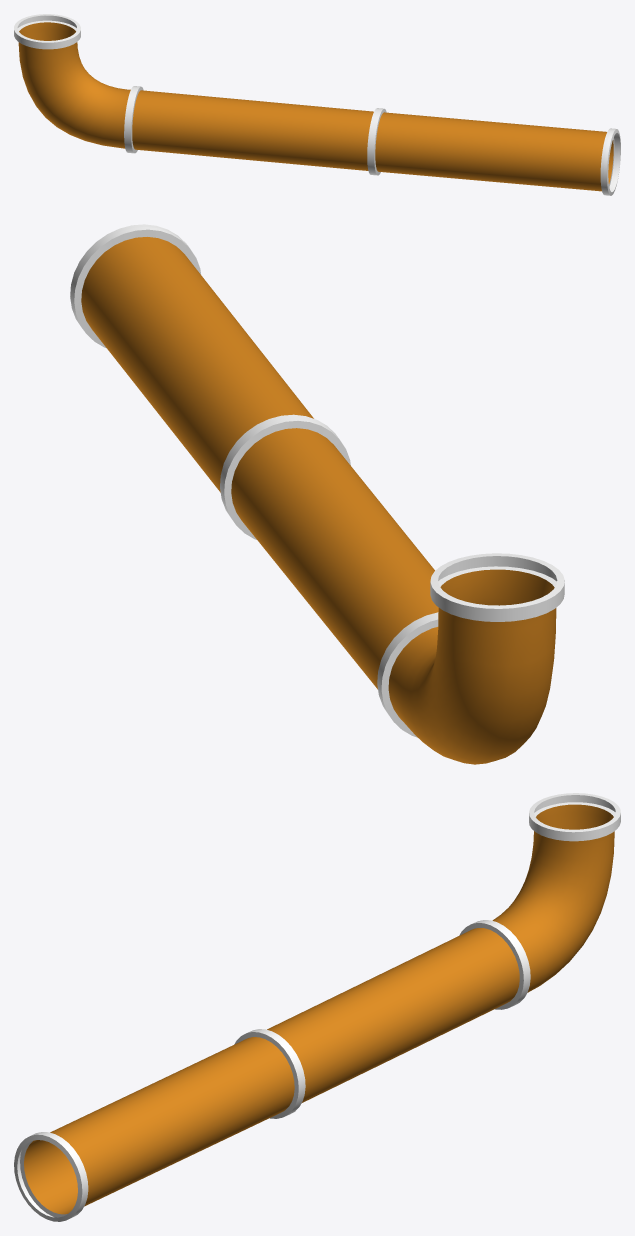
Rendered from SM_H_Building_Tide_Waterway_11a_ATLAS.fbx.
3 views of the same model, one above another, from view 1: azimuth 30°, elevation 25°; view 2: azimuth 150°, elevation 25°; view 3: azimuth 270°, elevation 25° (orthographic). The views are drawn at different scales.
Visible parts, largest first — view 1: SM_H_Building_Tide_Waterway_11a_ATLAS; view 2: SM_H_Building_Tide_Waterway_11a_ATLAS; view 3: SM_H_Building_Tide_Waterway_11a_ATLAS.
Boxes of the visible parts, x1,y1,x2,y2 form: SM_H_Building_Tide_Waterway_11a_ATLAS: (14, 14, 620, 195); SM_H_Building_Tide_Waterway_11a_ATLAS: (70, 224, 564, 764); SM_H_Building_Tide_Waterway_11a_ATLAS: (14, 793, 620, 1221).
Bounding box in the file's own units: 1006 × 913 × 262.
